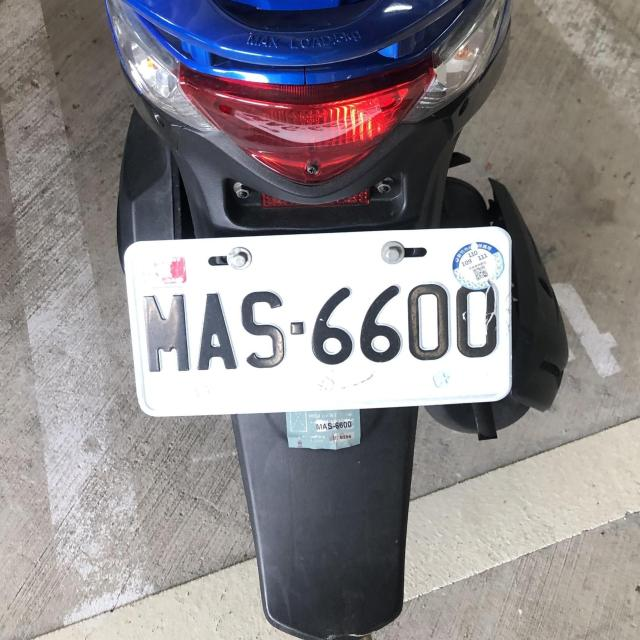W: (123, 222, 522, 421)
